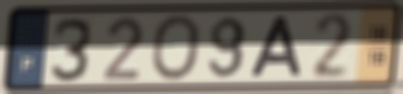2: (100, 15, 145, 83), (311, 11, 354, 81)
3: (50, 15, 95, 84)
9: (208, 14, 249, 81)
A: (247, 14, 305, 79)
O: (149, 13, 204, 83)
